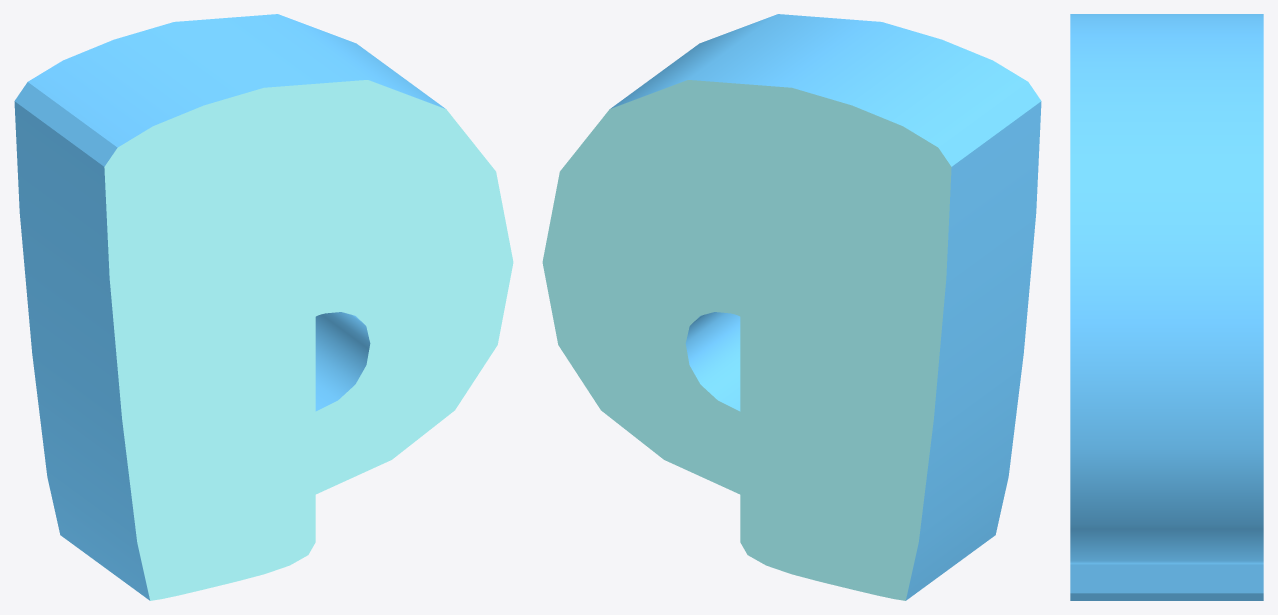
The picture shows the model from 3 angles, left to right: view 1: azimuth 30°, elevation 25°; view 2: azimuth 150°, elevation 25°; view 3: azimuth 270°, elevation 25°; orthographic projection. The views are drawn at different scales.
Visible parts, largest first — view 1: p; view 2: p; view 3: p.
Part boxes in pixels (<box>): p: <box>14,14,513,600</box>; p: <box>542,14,1041,600</box>; p: <box>1070,14,1263,600</box>.
Size of what is drawn, in the model's own units: 0.4202 by 0.4782 by 0.16.
